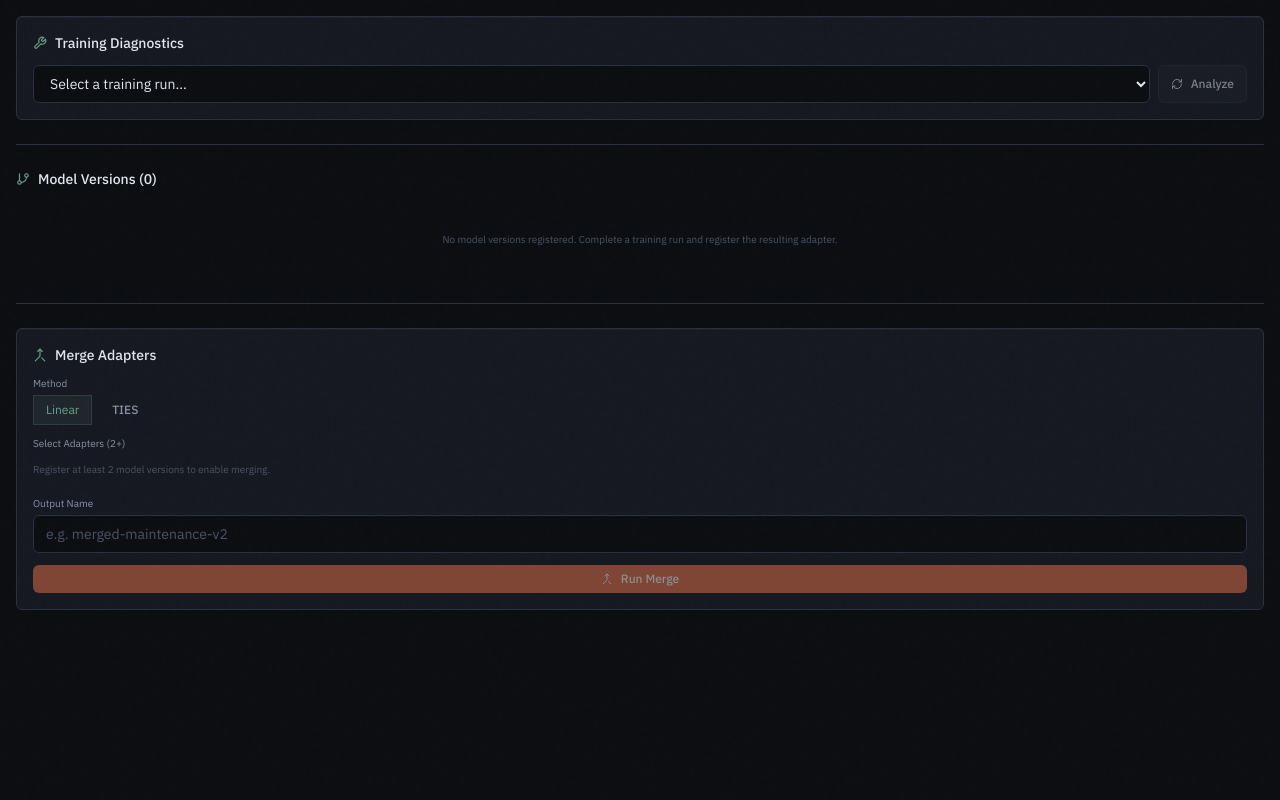
Test: DiagnosticsPanel wiring › analyzes a training run via the API and renders the report
Select "adapter-x" in the dropdown: (591, 84) [33,65,1150,103]
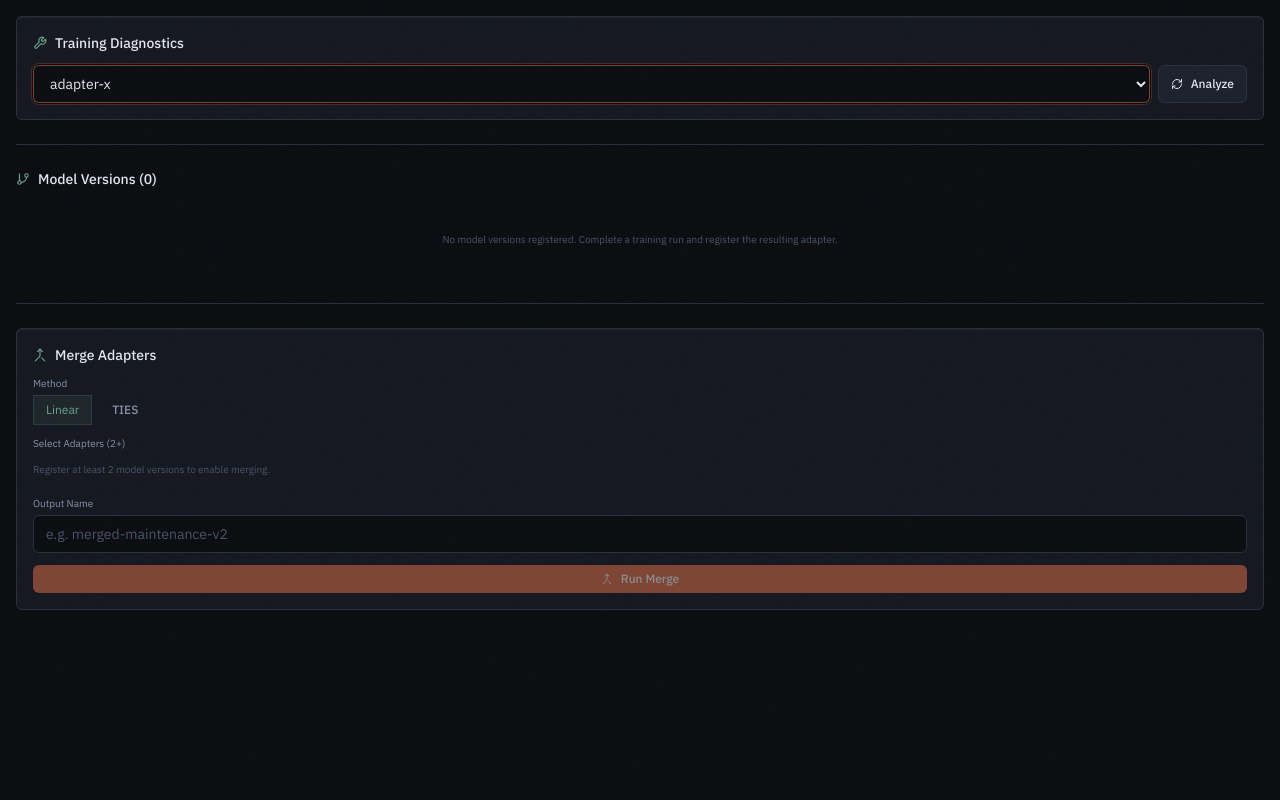
Click the button "Analyze": click(1202, 84) [1158,65,1247,103]
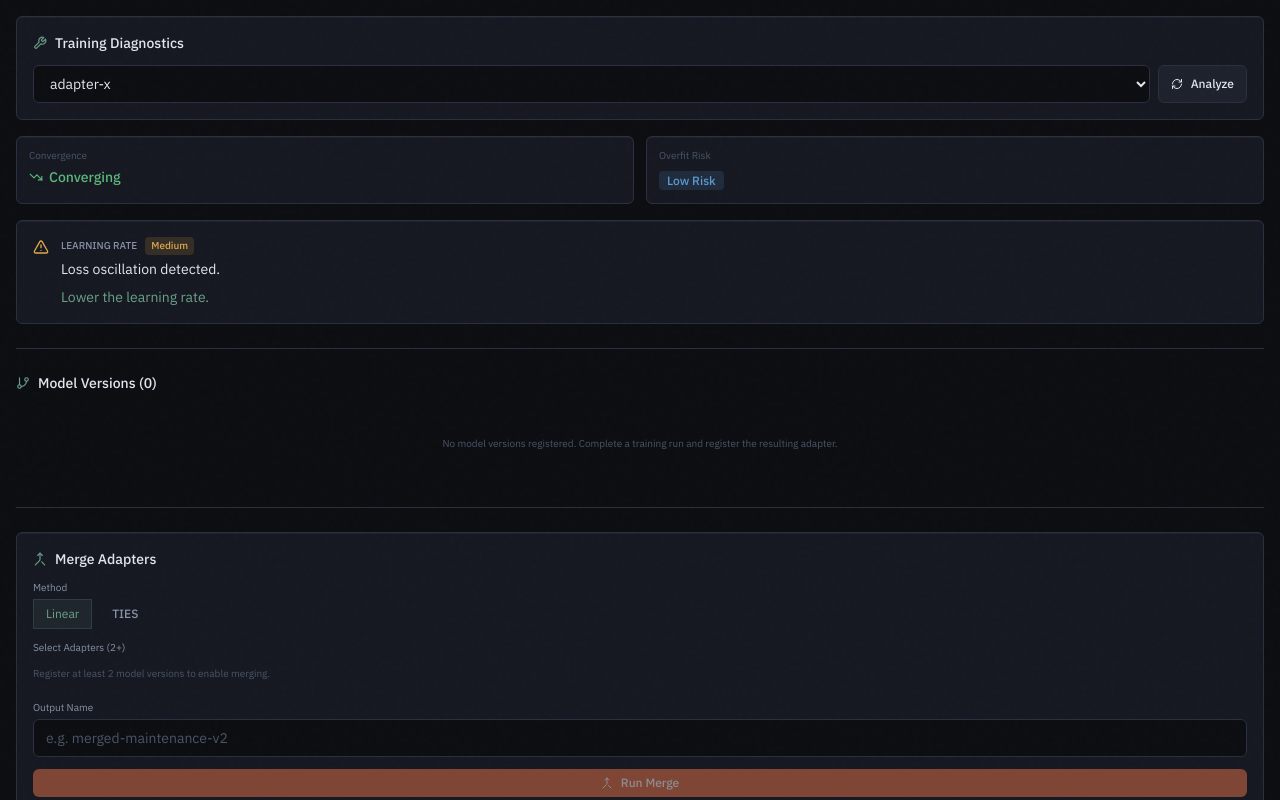
Result: the text "Loss oscillation detected." is shown at [61,259,220,279]
